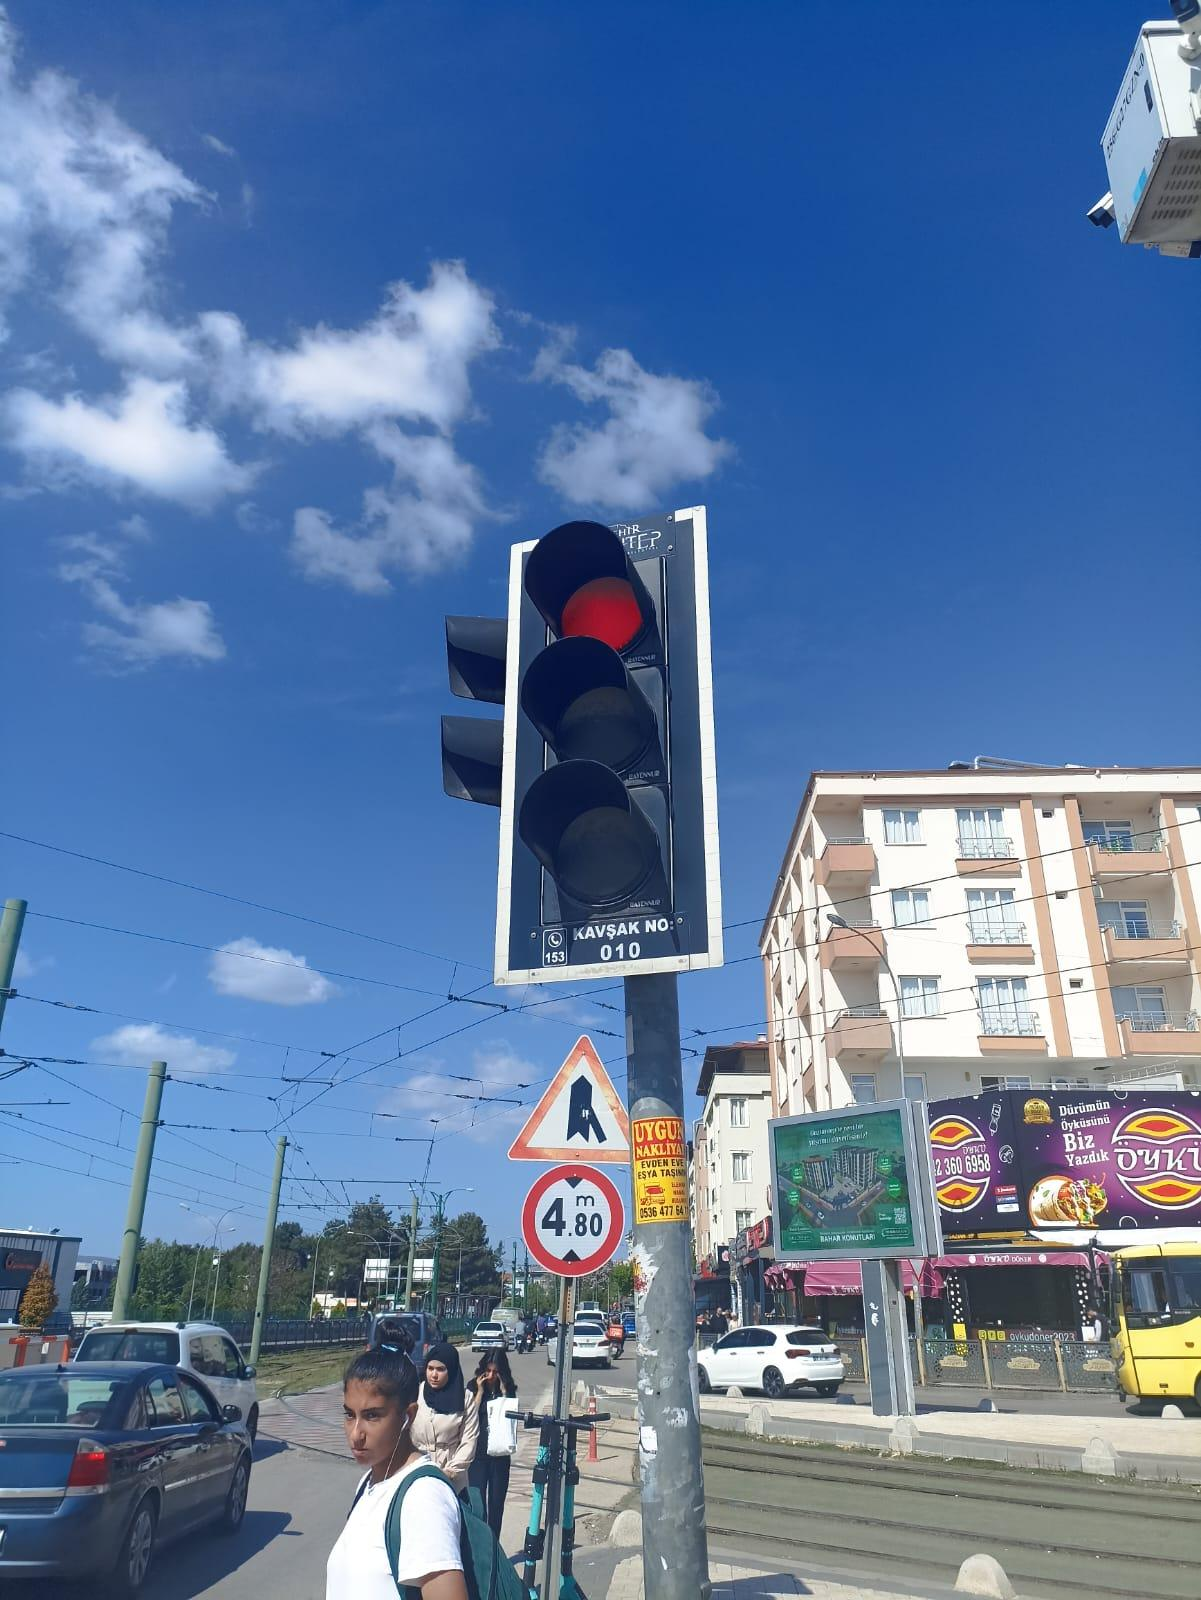redlight: (513, 532, 664, 881)
